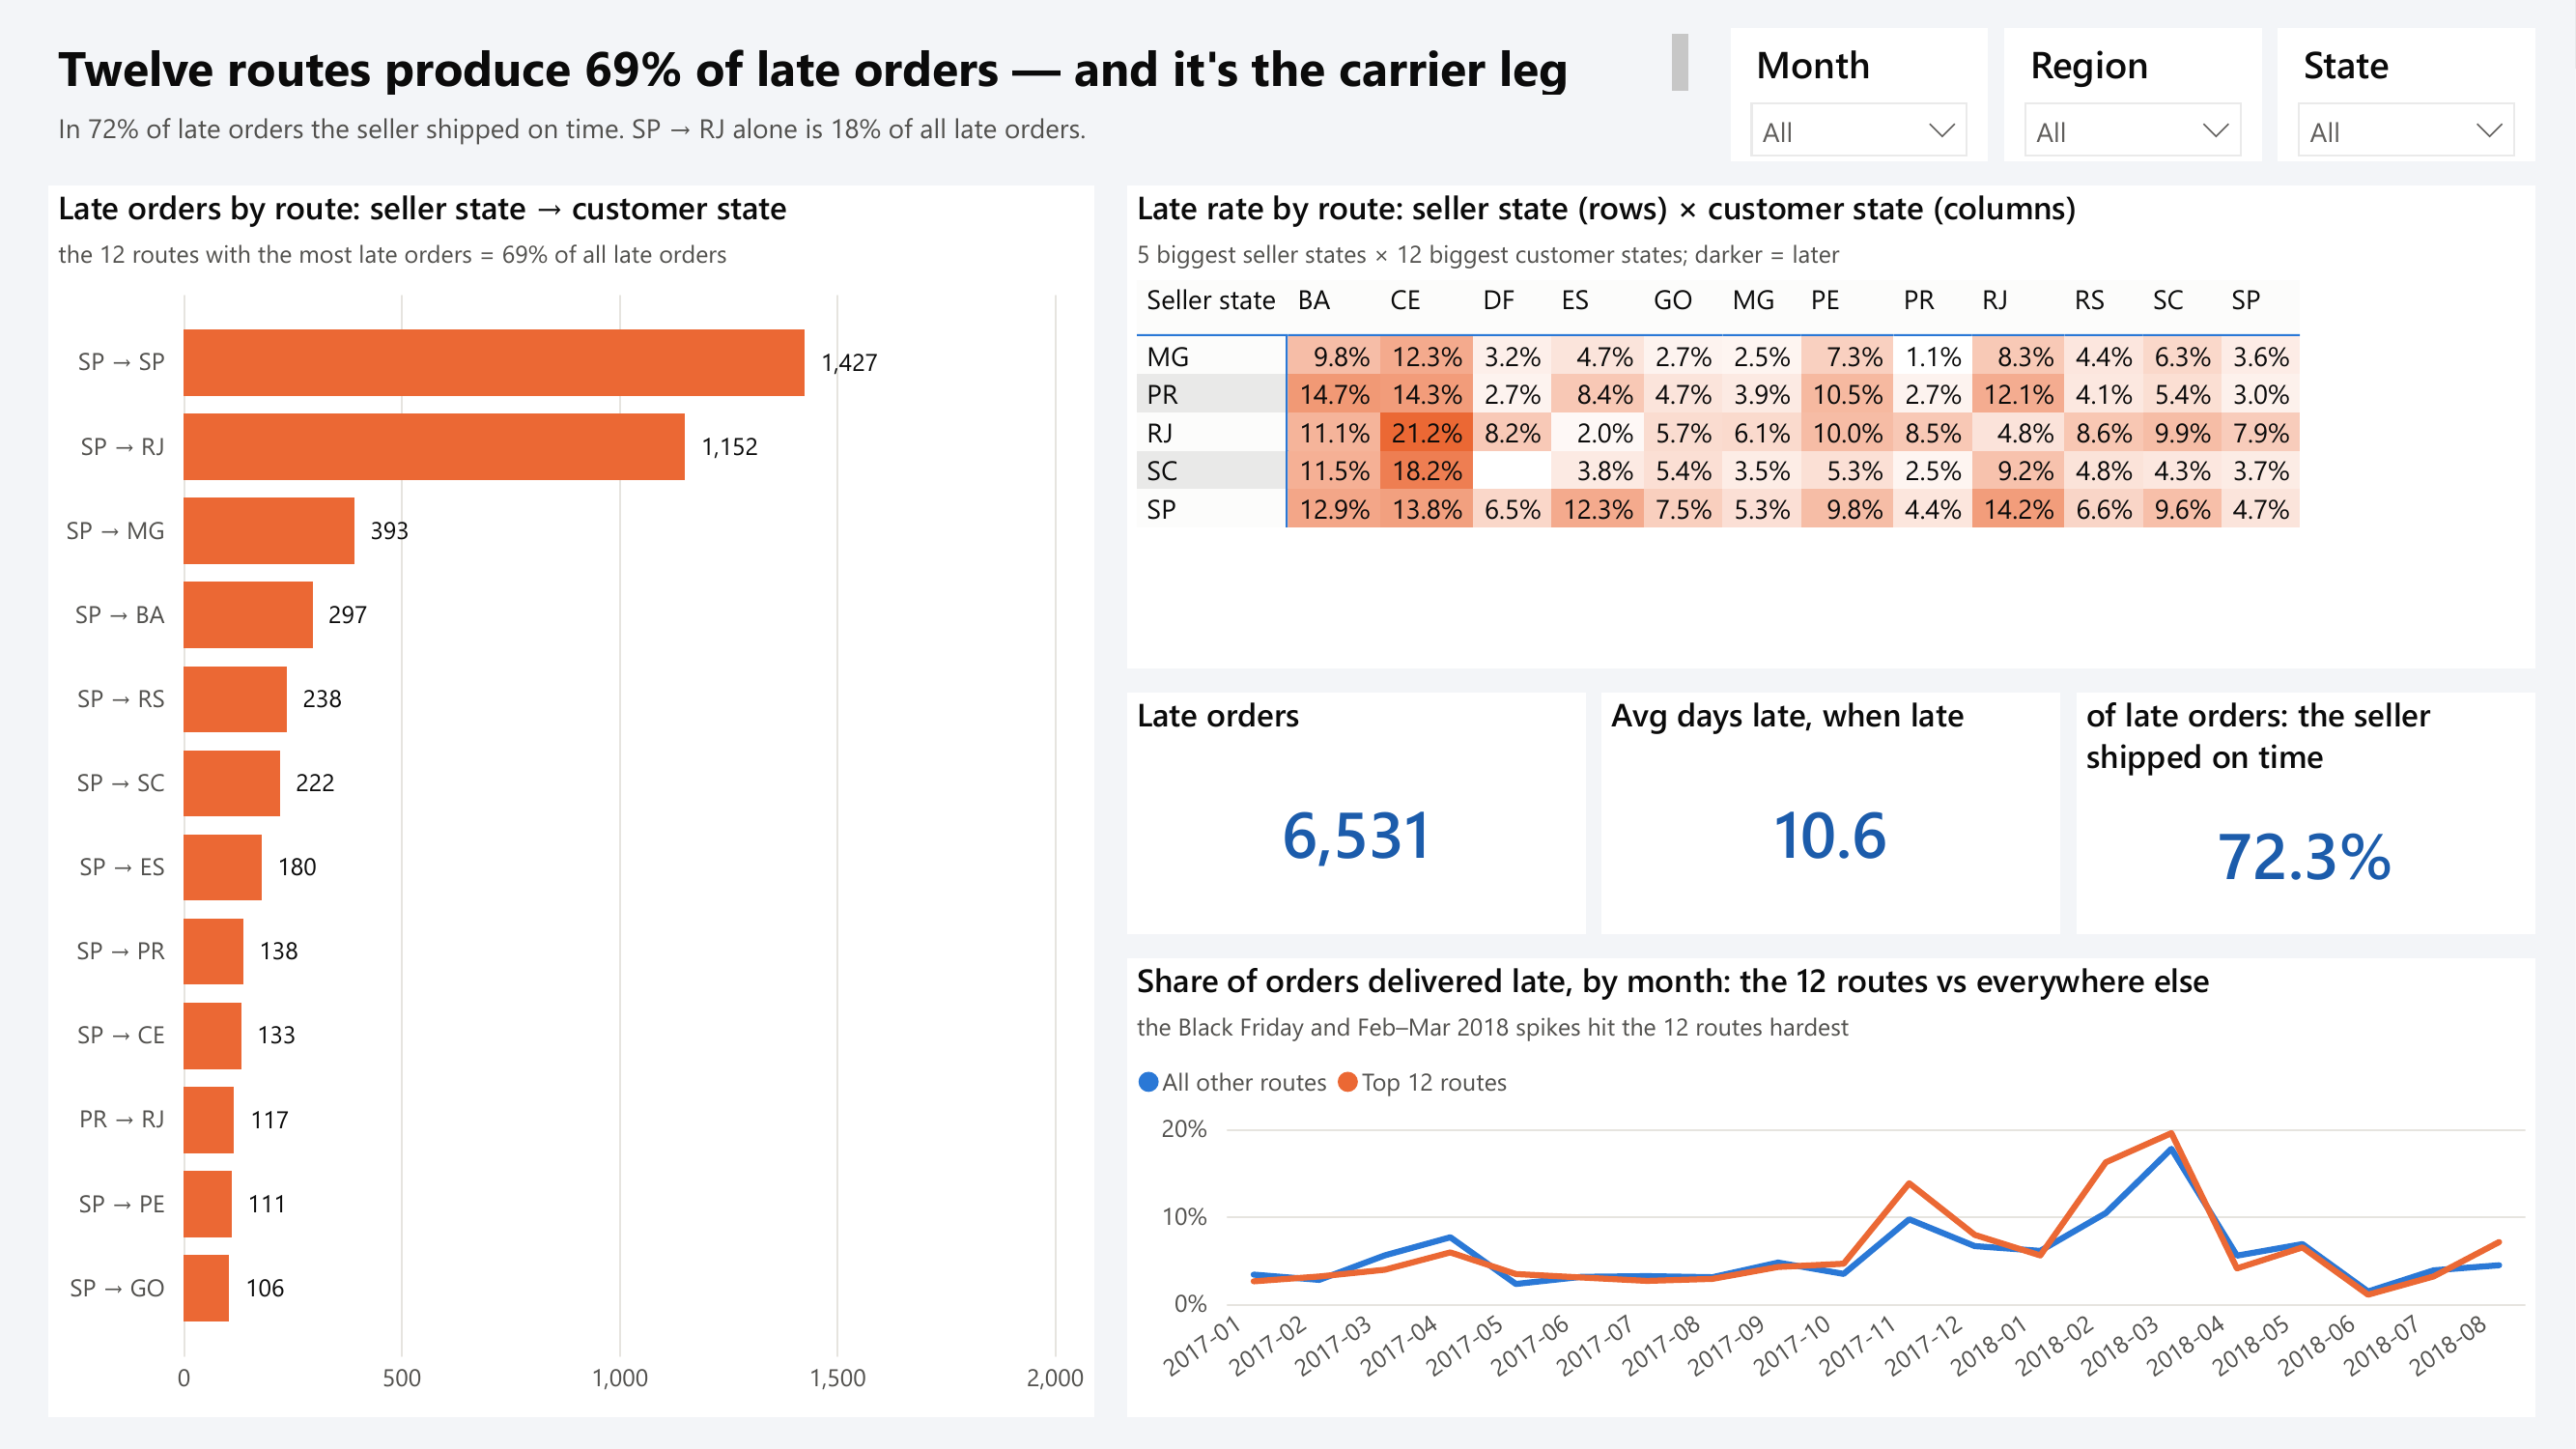

The dashboard page shown, as its layout file describes it:
{"tool":"powerbi","page":{"name":"Routes","canvas":[1280,720],"ordinal":2},"visuals":[{"type":"textbox","box":[24,12,820,40],"z":1000},{"type":"textbox","box":[24,50,900,34],"z":1001},{"type":"slicer","fields":{"Values":["dim_date.year_month"]},"box":[860,14,128,66],"z":1002},{"type":"slicer","fields":{"Values":["dim_state.region"]},"box":[996,14,128,66],"z":1003},{"type":"slicer","fields":{"Values":["dim_state.state"]},"box":[1132,14,128,66],"z":1004},{"type":"barChart","title":"Late orders by route: seller state → customer state","fields":{"Category":["fact_orders.route"],"Y":["_Measures.Late Orders"]},"box":[24,92,520,612],"z":1005},{"type":"pivotTable","title":"Late rate by route: seller state (rows) × customer state (columns)","fields":{"Columns":["fact_orders.customer_state"],"Rows":["fact_orders.main_seller_state"],"Values":["_Measures.Late Rate"]},"box":[560,92,700,240],"z":1006},{"type":"card","title":"Late orders","fields":{"Values":["_Measures.Late Orders"]},"box":[560,344,228,120],"z":1007},{"type":"card","title":"Avg days late, when late","fields":{"Values":["_Measures.Avg Days Late (late only)"]},"box":[796,344,228,120],"z":1008},{"type":"card","title":"of late orders: the seller shipped on time","fields":{"Values":["_Measures.Seller On Time % (late orders)"]},"box":[1032,344,228,120],"z":1009},{"type":"lineChart","title":"Share of orders delivered late, by month: the 12 routes vs everywhere else","fields":{"Category":["dim_date.year_month"],"Y":["_Measures.Late Rate"],"Series":["fact_orders.route_group"]},"box":[560,476,700,228],"z":1010}]}

Visuals, with their boxes in screenshot pixels (x1, y1, x2, y2), scaled from the page's 1280x720 canvas onto the 2576x1449 screenshot:
textbox: 48, 24, 1699, 104
textbox: 48, 100, 1859, 169
slicer - dim_date.year_month: 1731, 28, 1989, 161
slicer - dim_state.region: 2004, 28, 2262, 161
slicer - dim_state.state: 2279, 28, 2535, 161
"Late orders by route: seller state → customer state" barChart: 48, 185, 1094, 1417
"Late rate by route: seller state (rows) × customer state (columns)" pivotTable: 1127, 185, 2535, 668
"Late orders" card: 1127, 693, 1586, 934
"Avg days late, when late" card: 1602, 693, 2061, 934
"of late orders: the seller shipped on time" card: 2077, 693, 2535, 934
"Share of orders delivered late, by month: the 12 routes vs everywhere else" lineChart: 1127, 958, 2535, 1417
